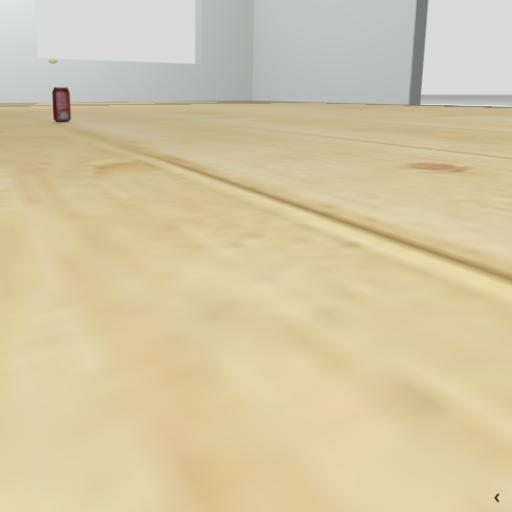COCA: (30, 60, 90, 147)
